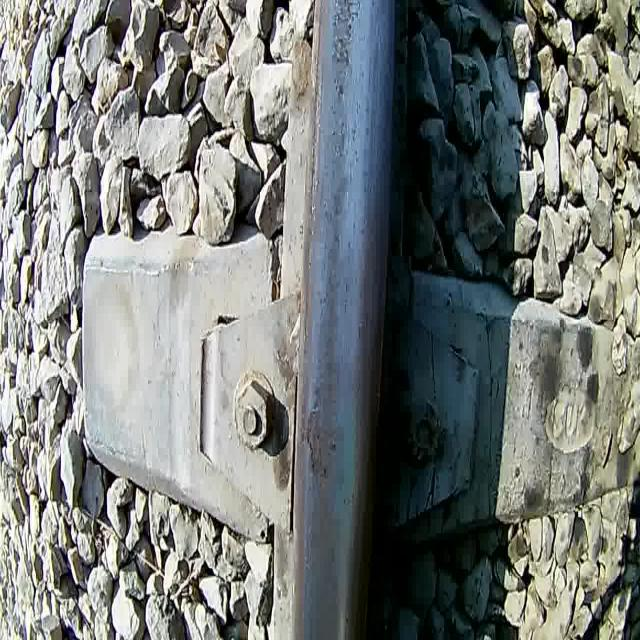Squats: (299, 383, 340, 485), (327, 0, 362, 109)
